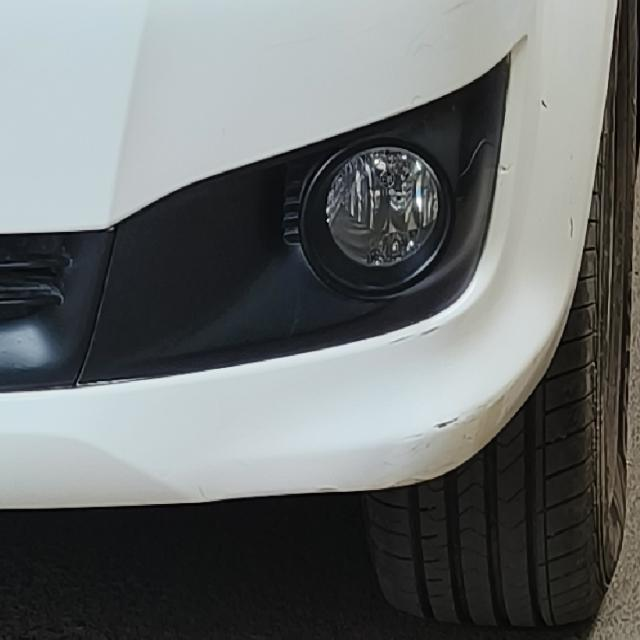scratch: (393, 401, 509, 489), (376, 319, 451, 357), (562, 212, 583, 250), (313, 482, 344, 499), (536, 97, 554, 117)
